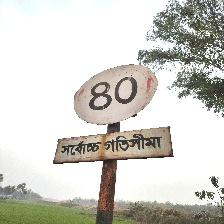Speed-limit: (54, 62, 171, 165)
